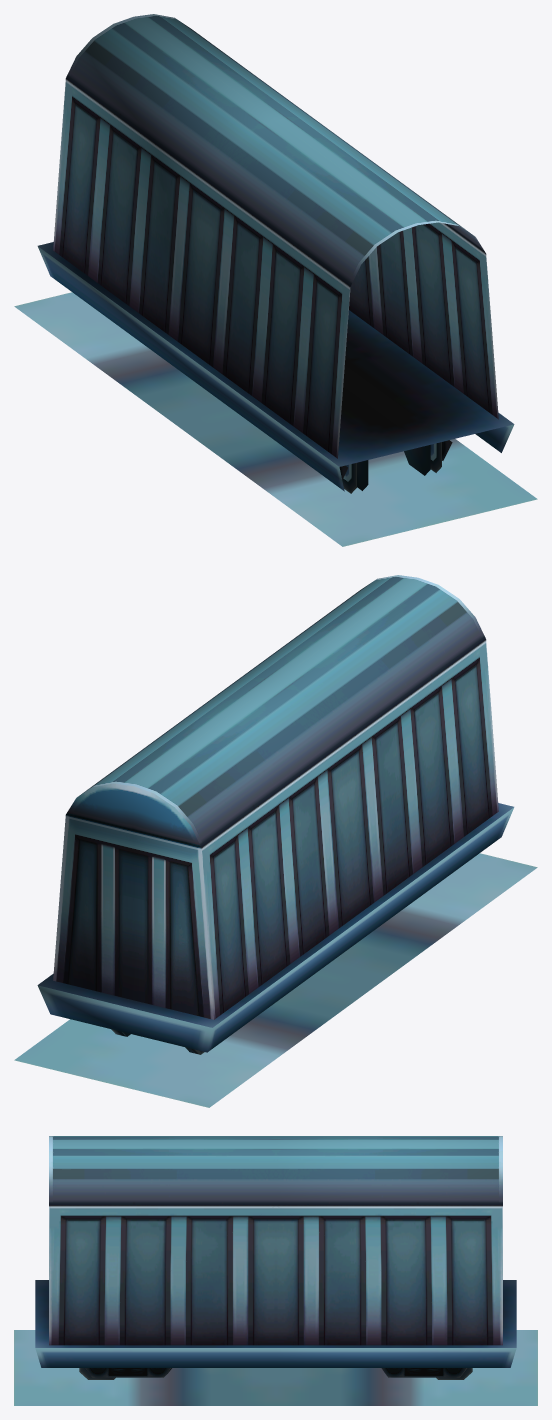
File: train_cargo.fbx
The picture shows the model from 3 angles, top to bottom: view 1: azimuth 30°, elevation 25°; view 2: azimuth 150°, elevation 25°; view 3: azimuth 270°, elevation 25°; orthographic projection. The views are drawn at different scales.
Parts seen in each view (by area): view 1: train_cargo_obj; view 2: train_cargo_obj; view 3: train_cargo_obj.
Boxes of the visible parts, left/top/right/bottom form: train_cargo_obj: left=14, top=14, right=537, bottom=546; train_cargo_obj: left=14, top=575, right=537, bottom=1107; train_cargo_obj: left=14, top=1136, right=537, bottom=1405.
Bounding box in the file's own units: 2058 × 2839 × 6000.
1 material, 1 textured.
